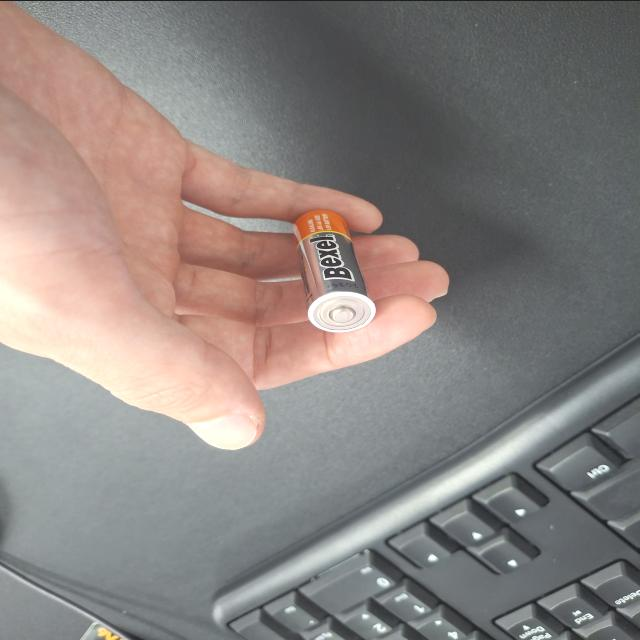AA: (412, 380, 576, 442)
